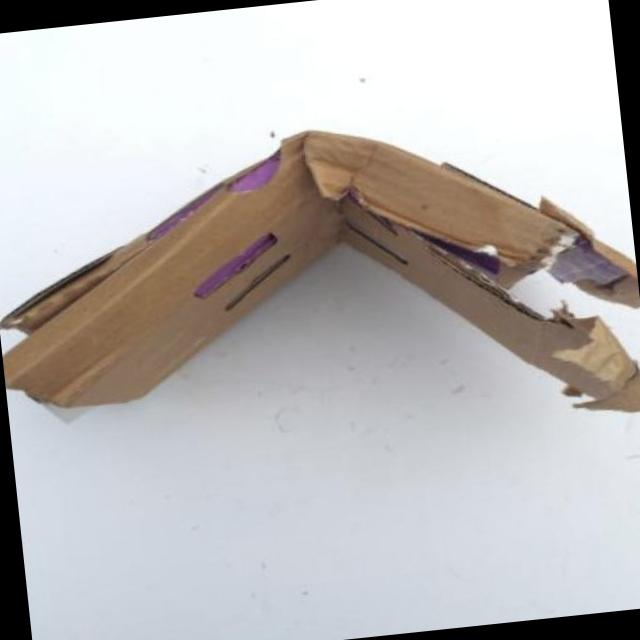cardboard paper: (2, 129, 640, 409)
